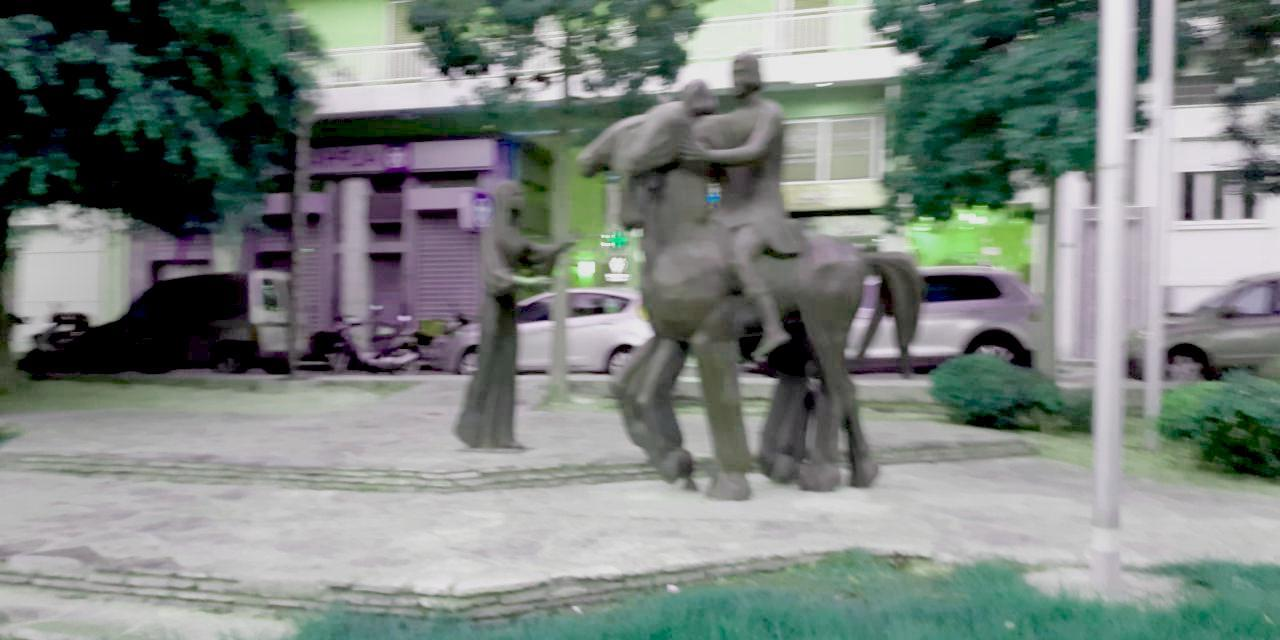Aretousa: (453, 53, 922, 504)
